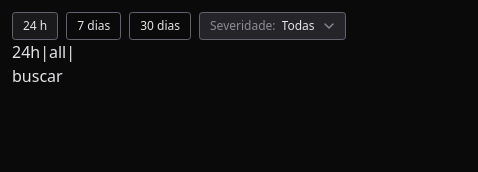
Test: FilterBar › escolher uma severidade atualiza o filtro
This screenshot has width=478, height=172.
What coordinates should you click on to do the following:
click the dropdown labelled "Severidade"
I would click on:
 (272, 26)
Its box is [199,12,346,40].
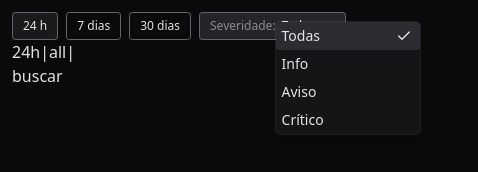
What coordinates should you click on to do the following:
click the option "Crítico"
I would click on:
 (303, 120)
Its box is [282,110,324,129].
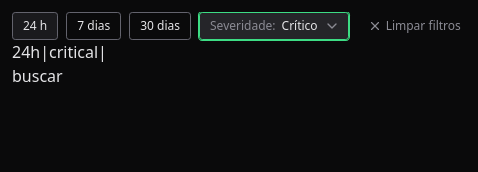
Expected: the text with test id "filters" reads "24h|critical|", [12,41,107,63]
Expected: the dropdown labelled "Severidade" shows "Crítico", [199,12,349,40]
